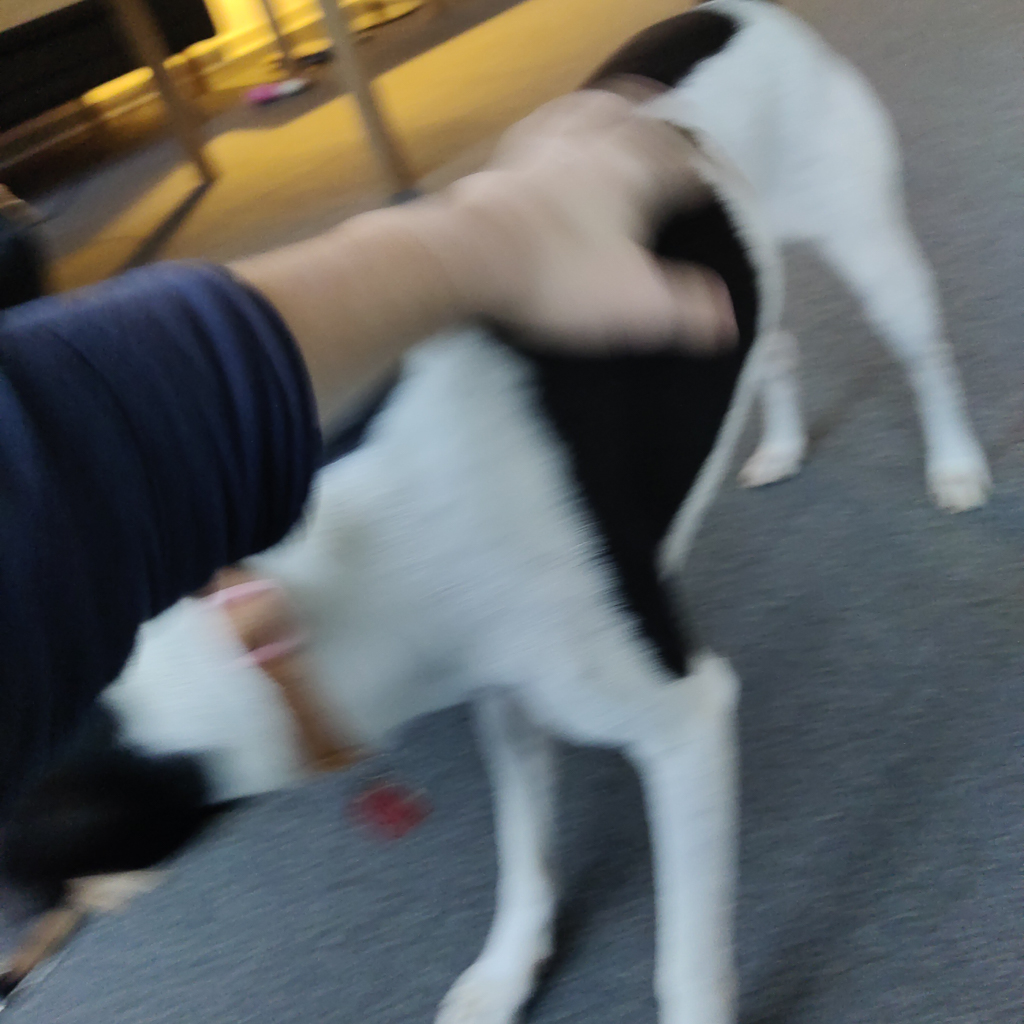Dog: (0, 0, 1024, 1024)
Humanoid: (0, 46, 780, 864)
